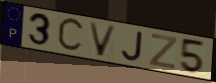3: (28, 11, 52, 48)
5: (178, 37, 209, 76)
C: (56, 17, 87, 54)
J: (121, 30, 145, 63)
V: (87, 21, 119, 59)
Z: (147, 32, 178, 71)
